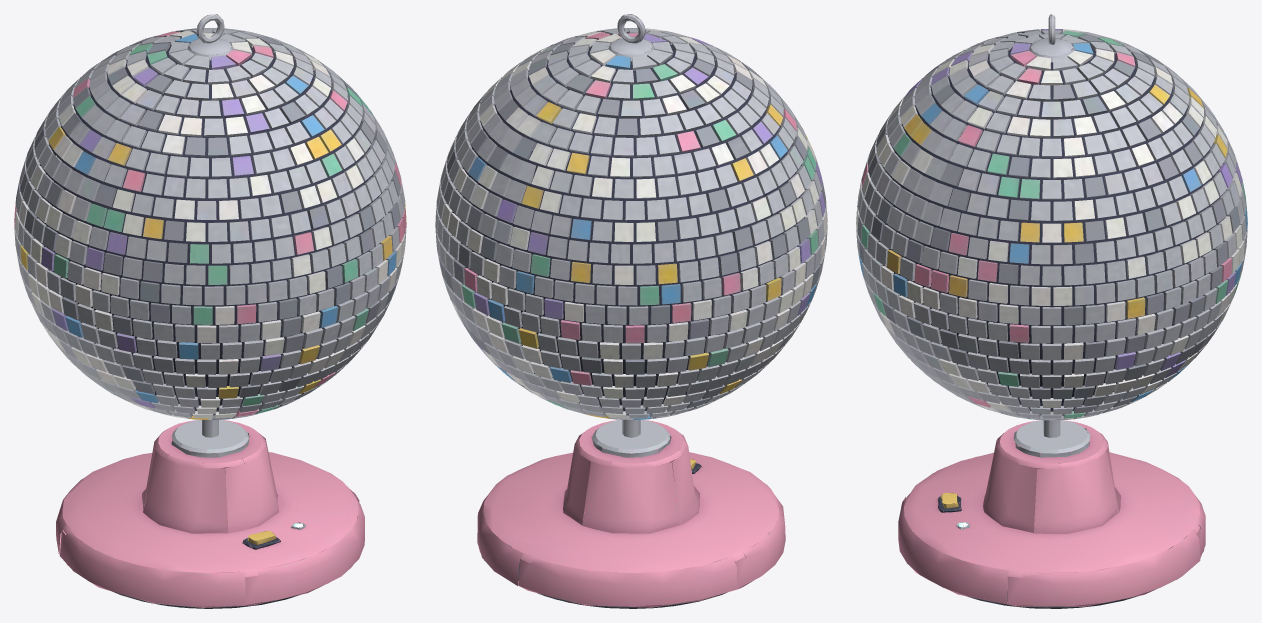
The model's file is bola_discoteca.glb.
The picture shows the model from 3 angles, left to right: view 1: azimuth 30°, elevation 25°; view 2: azimuth 150°, elevation 25°; view 3: azimuth 270°, elevation 25°; orthographic projection.
Parts seen in each view (by area): view 1: disco-ball_body; view 2: disco-ball_body; view 3: disco-ball_body.
Part boxes in pixels (box(x1,y1,x2,y2)): disco-ball_body: box(14, 14, 406, 608); disco-ball_body: box(435, 14, 827, 608); disco-ball_body: box(856, 14, 1247, 608).
Bounding box in the file's own units: 0.2029 × 0.3055 × 0.2029.
3 materials, 2 textured.
